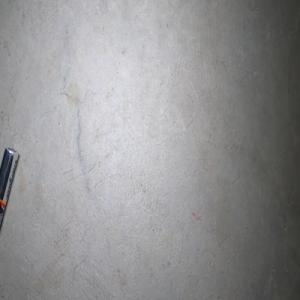Battery: (0, 146, 19, 229)
